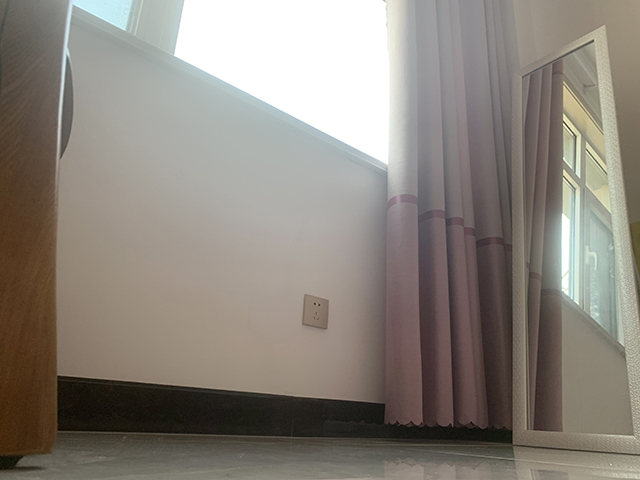curtain: (382, 1, 510, 430)
